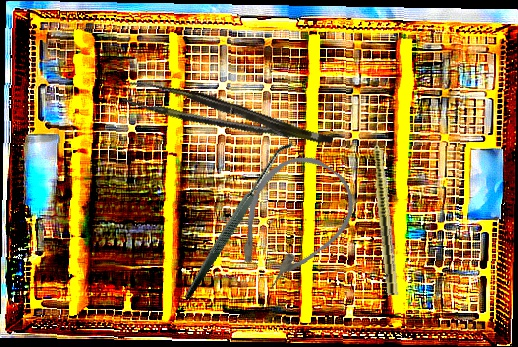Cannula: (214, 139, 369, 305)
Handpiece: (368, 118, 401, 296)
Hook Surgical: (134, 124, 334, 301)
Tissue Forceps: (121, 67, 334, 171)
